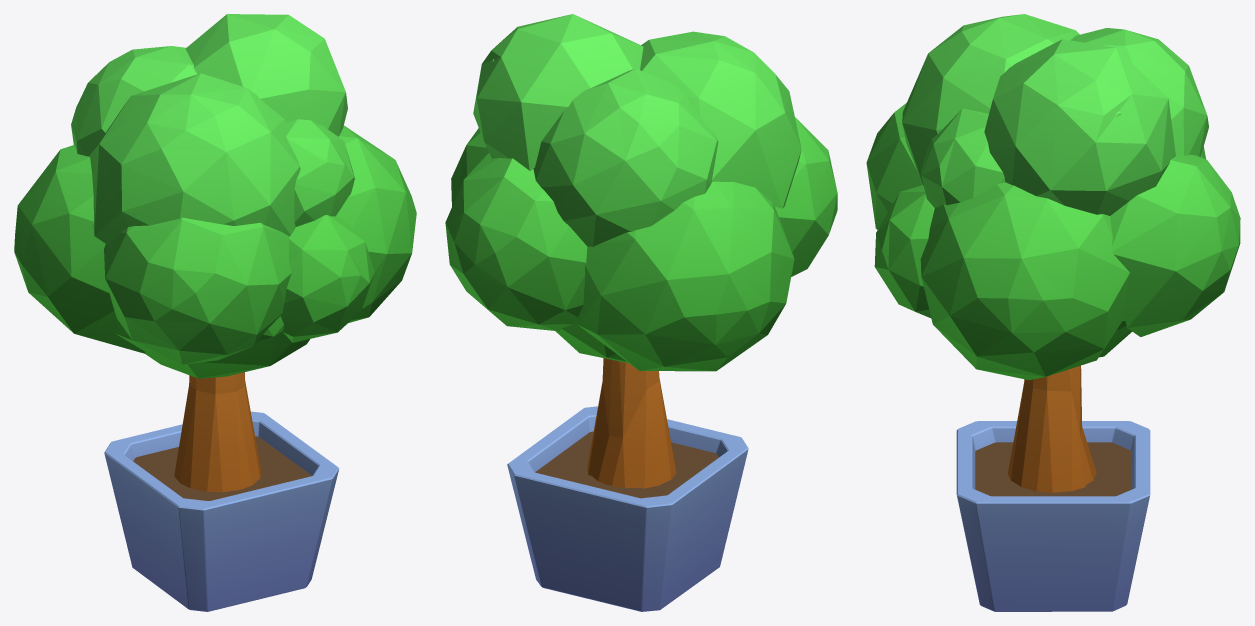
Rendered from tree.fbx.
The picture shows the model from 3 angles, left to right: view 1: azimuth 30°, elevation 25°; view 2: azimuth 150°, elevation 25°; view 3: azimuth 270°, elevation 25°; orthographic projection. The views are drawn at different scales.
Parts seen in each view (by area): view 1: tree; view 2: tree; view 3: tree.
Boxes of the visible parts, x1,y1,x2,y2 form: tree: [14, 14, 416, 611]; tree: [445, 14, 837, 611]; tree: [866, 14, 1240, 611].
Size of the model in its own units: 102 by 154 by 94.09.
